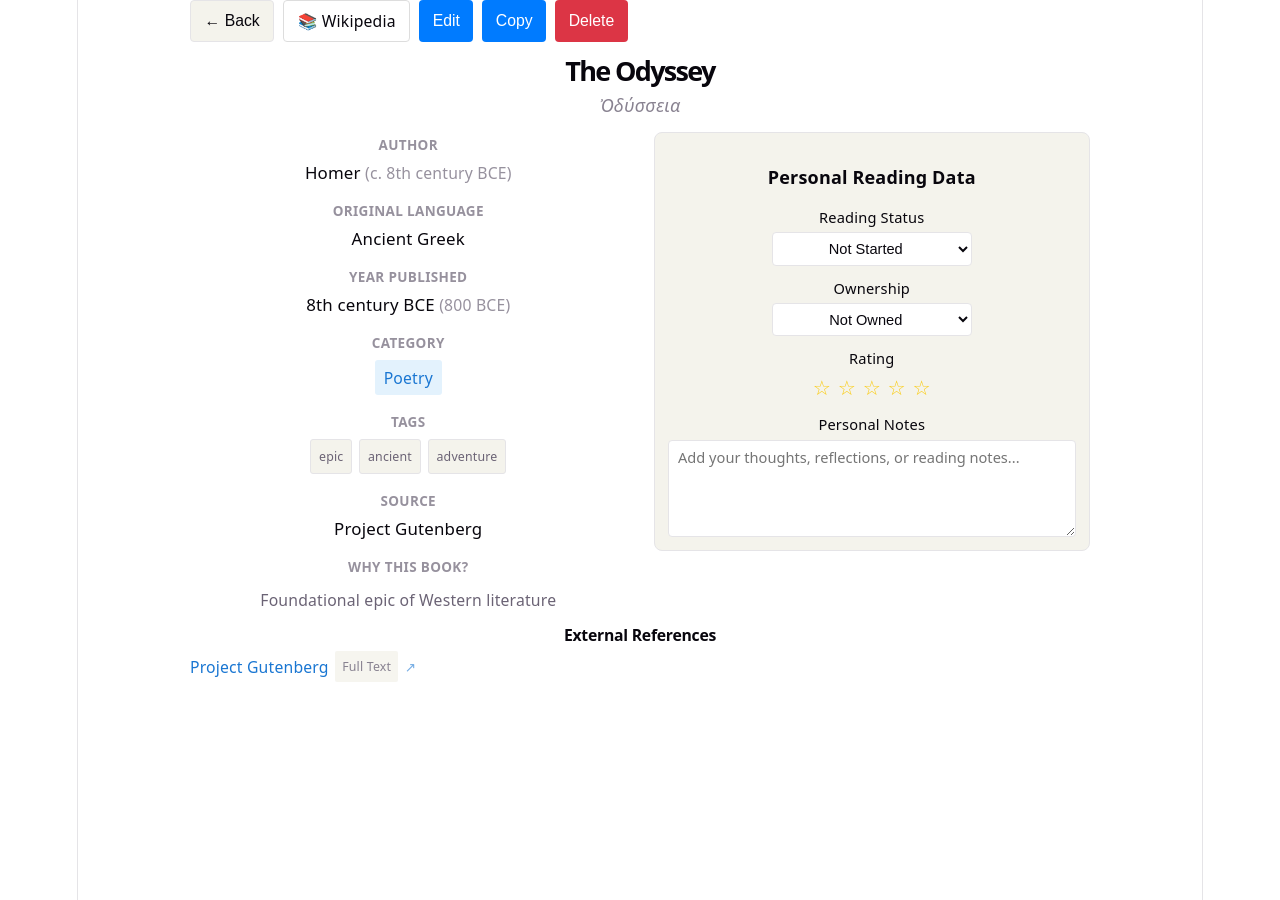
Test: BookDetailPage › Delete Functionality › should close dialog when cancel is clicked
Check: the heading "The Odyssey" is shown, box [565,52,715,89]
Open dialog
Click the button "Delete". click: click(591, 21)
box: [555,0,628,42]
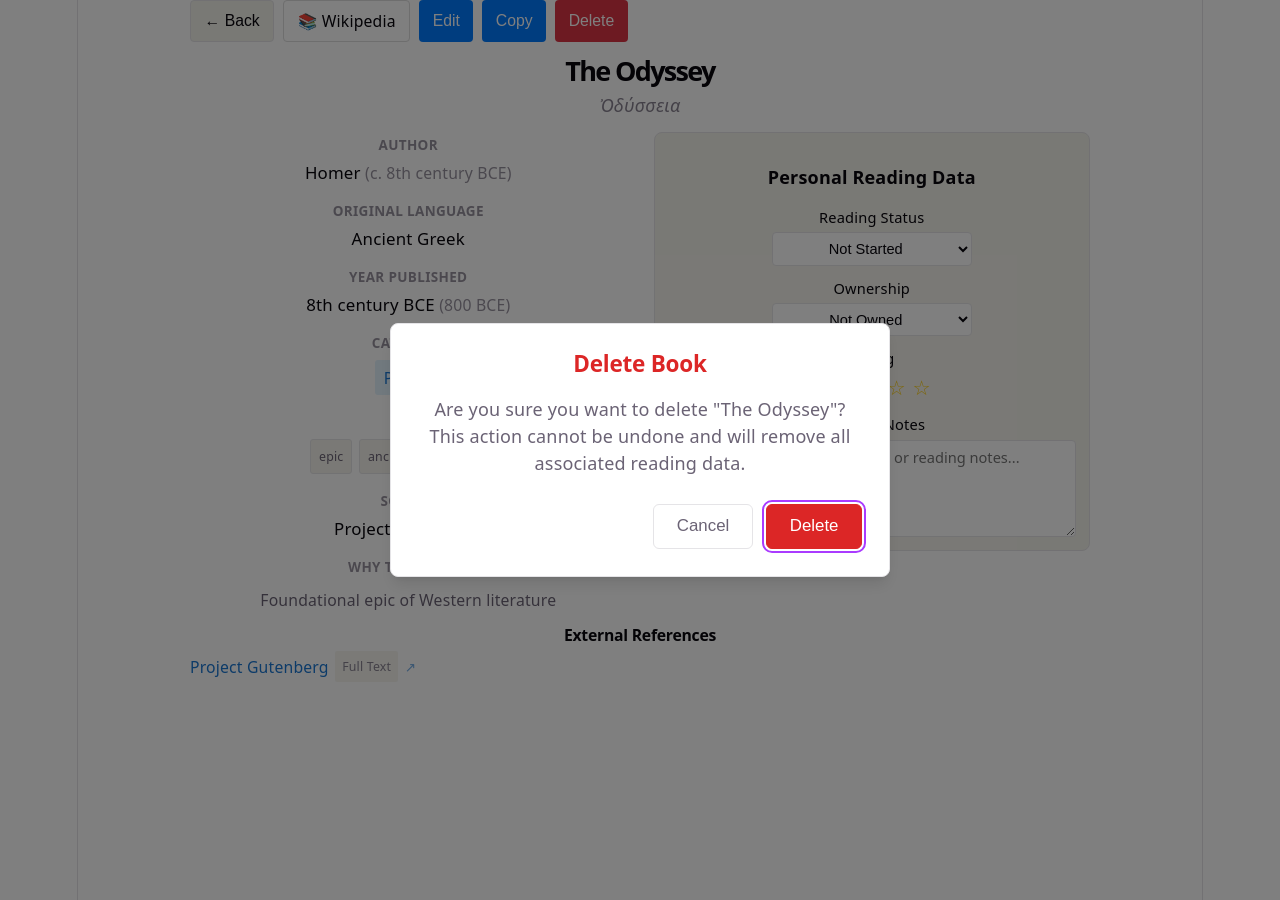
Check: the heading "Delete Book" is shown, box [573,348,707,380]
Click cancel
Click the button "Cancel". click: click(703, 526)
box: [653,504,753,548]
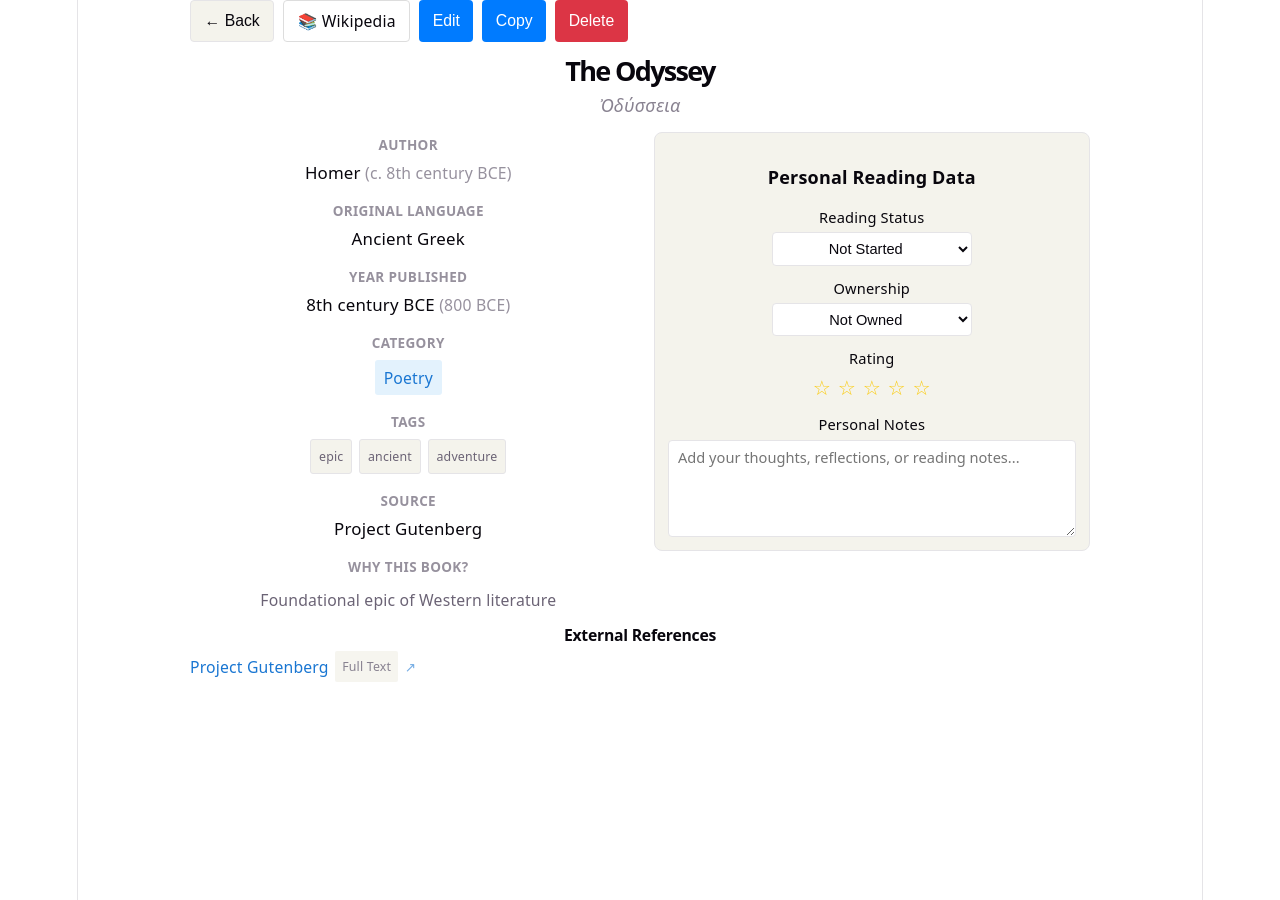
Check: the heading "Delete Book" is gone
